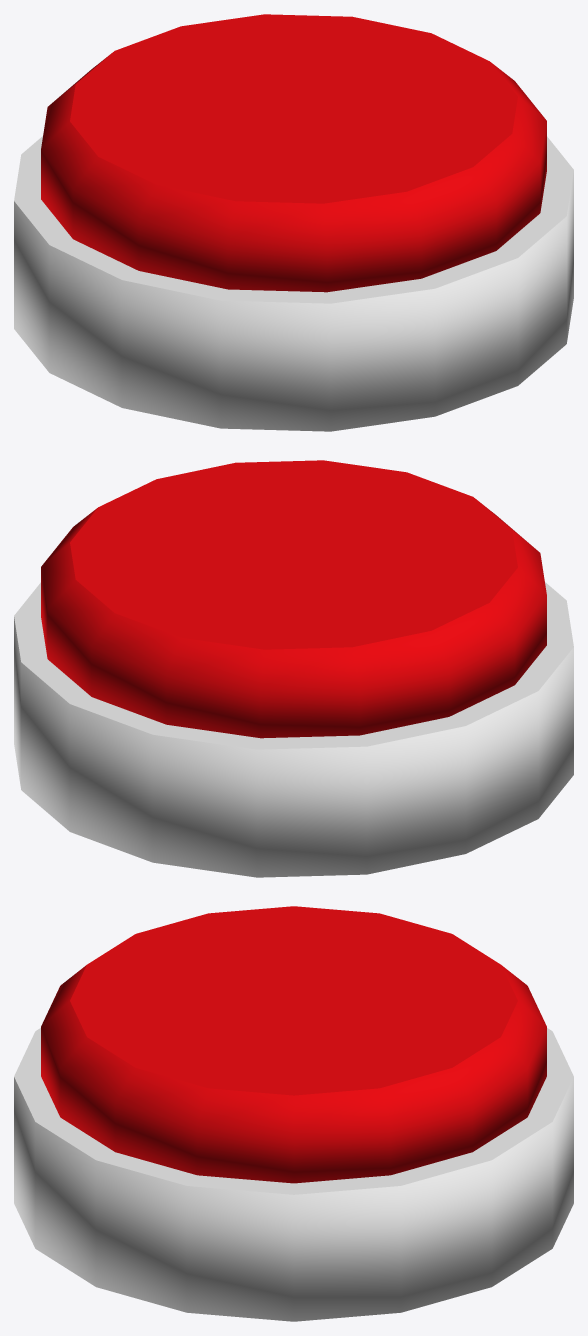
Rendered from Button.fbx.
3 views of the same model, one above another, from view 1: azimuth 30°, elevation 25°; view 2: azimuth 150°, elevation 25°; view 3: azimuth 270°, elevation 25° (orthographic).
Parts seen in each view (by area): view 1: Button, Body; view 2: Button, Body; view 3: Button, Body.
Boxes of the visible parts, x1,y1,x2,y2 form: Button: (41, 14, 546, 292); Body: (14, 136, 573, 431); Button: (41, 460, 546, 738); Body: (14, 582, 573, 877); Button: (41, 906, 546, 1183); Body: (14, 1028, 573, 1321).
Bounding box in the file's own units: 100 × 39.92 × 100.
